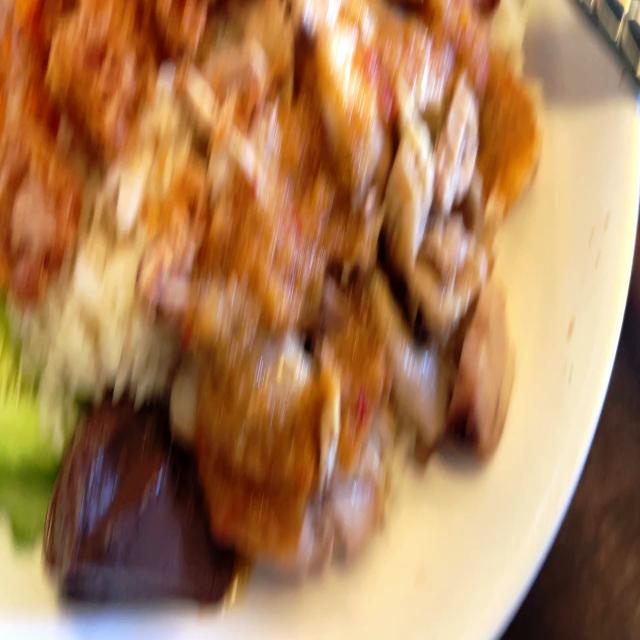boiled_chicken: (202, 0, 525, 536)
boiled_chicken_blood_jelly: (41, 384, 232, 609)
chicken_rice: (0, 0, 540, 612)
cucumber: (0, 272, 71, 537)
fried_chicken: (0, 0, 197, 285)
